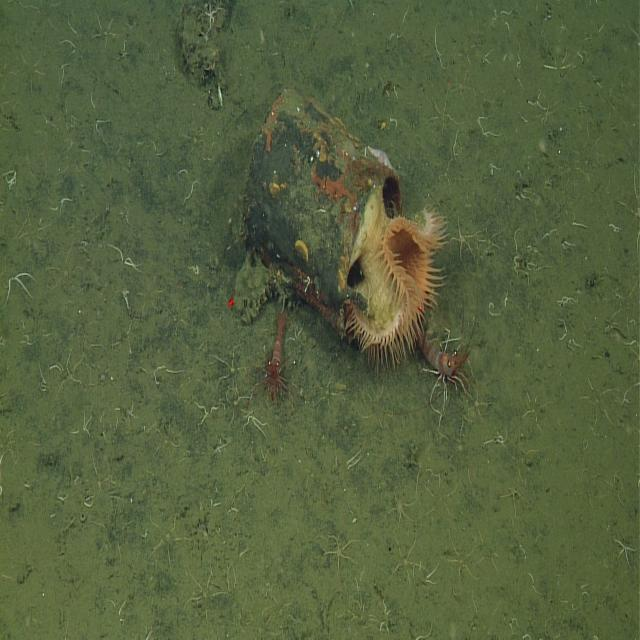Brittle Star: (436, 529, 488, 593), (321, 526, 360, 577), (451, 212, 484, 264)
Not Brittle Star: (339, 174, 449, 377), (414, 281, 489, 434), (247, 299, 308, 418)
